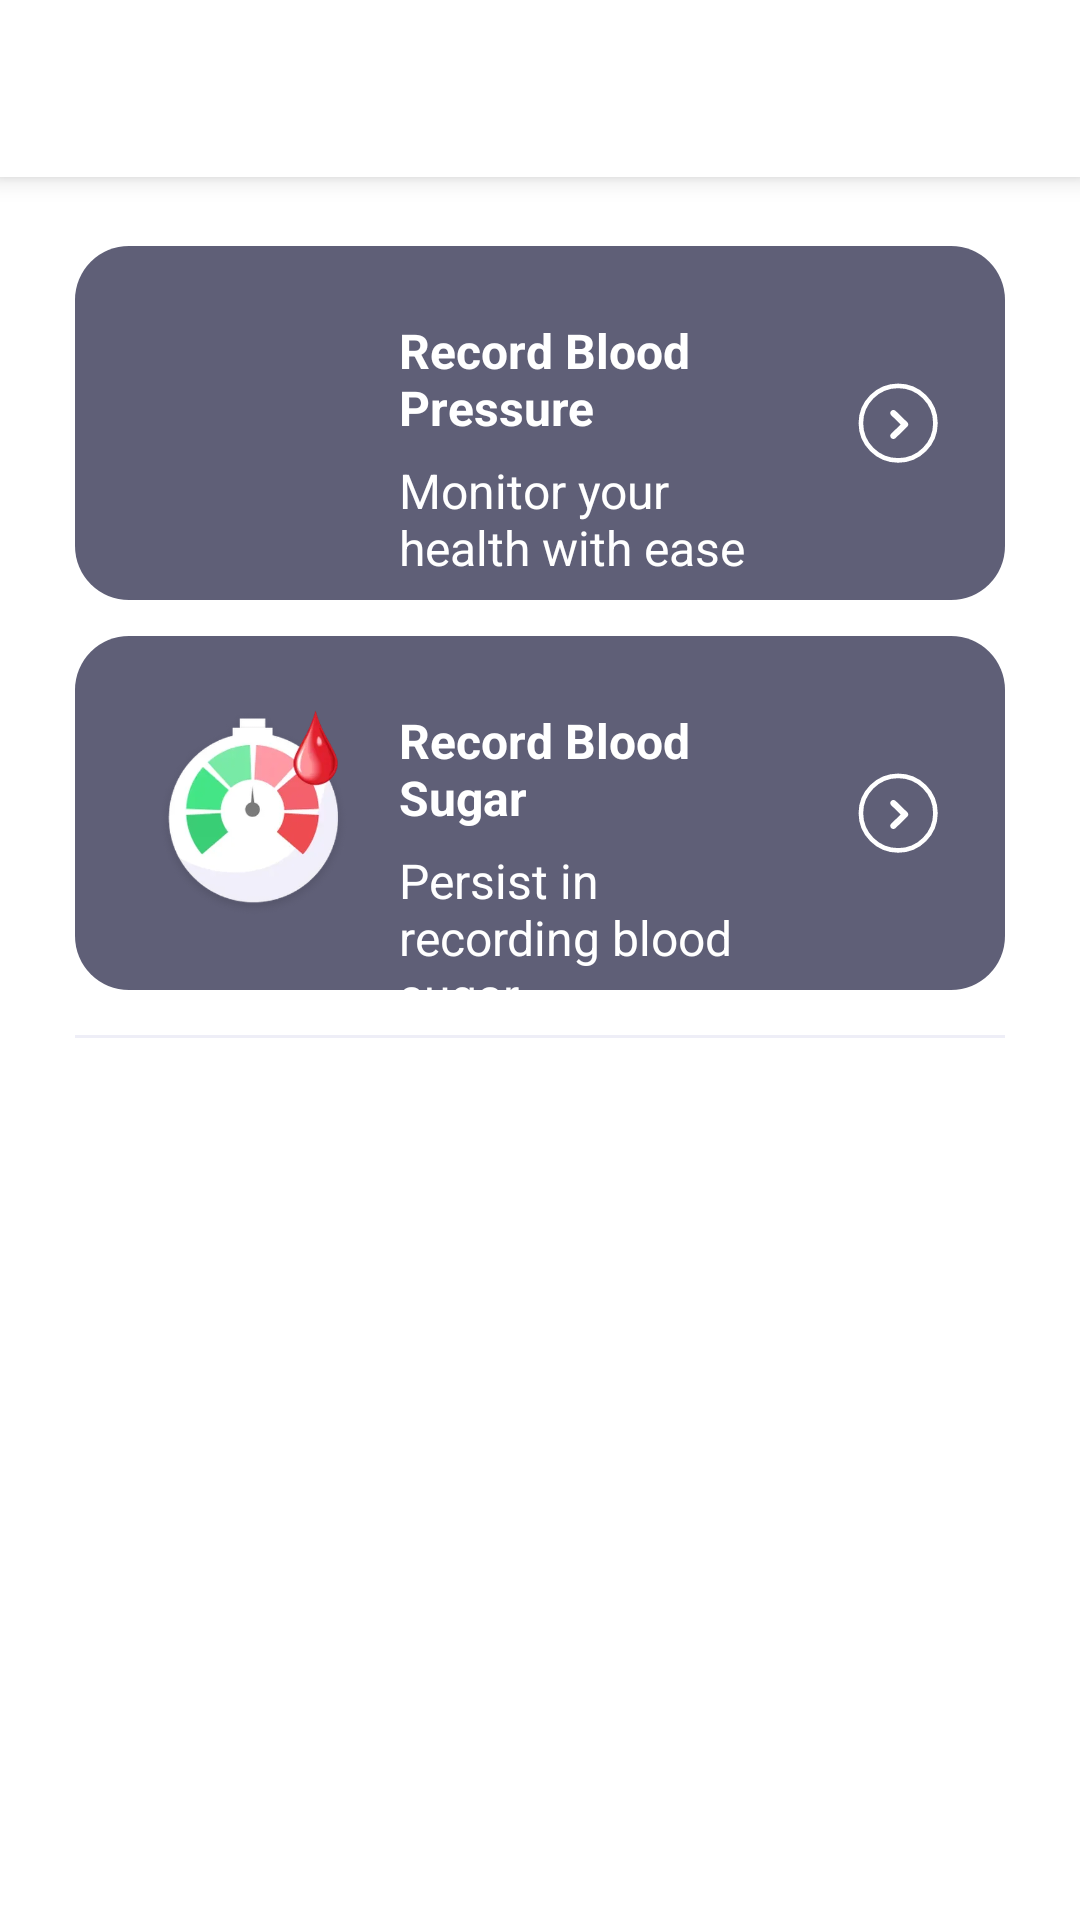

Named icons in this screenshot (1080w x 1920h) and their bounding boxes, (x1, y1, x2, y2):
arrow right: (858, 383, 938, 463), (858, 773, 938, 853)
